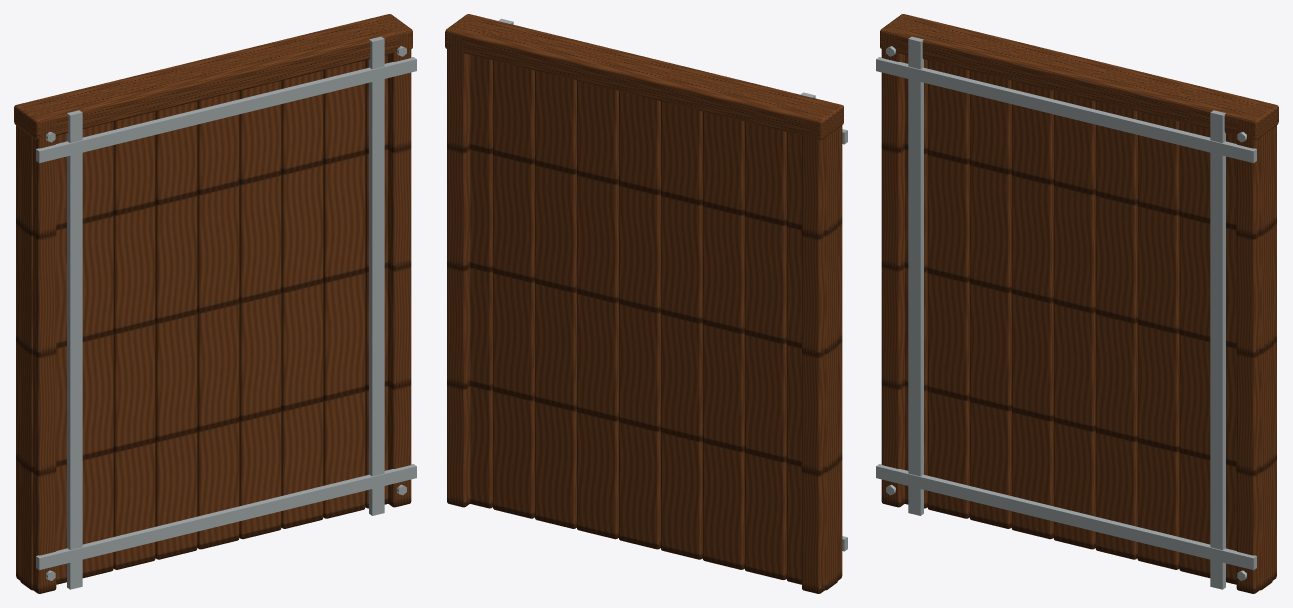
File: modular-survival-base-builder-wall-solid-stud-reinforc-133b13ac__24286.glb
The picture shows the model from 3 angles, left to right: view 1: azimuth 30°, elevation 25°; view 2: azimuth 150°, elevation 25°; view 3: azimuth 330°, elevation 25°; orthographic projection.
Visible parts, largest first — view 1: wall-solid-stud-reinforced; view 2: wall-solid-stud-reinforced; view 3: wall-solid-stud-reinforced.
Part boxes in pixels (x1,y1,x2,y2): wall-solid-stud-reinforced: [14, 14, 416, 593]; wall-solid-stud-reinforced: [445, 14, 847, 593]; wall-solid-stud-reinforced: [876, 14, 1278, 593].
Bounding box in the file's own units: 2 × 2.4 × 0.2395.
Materials: 2 (1 with a texture image).
